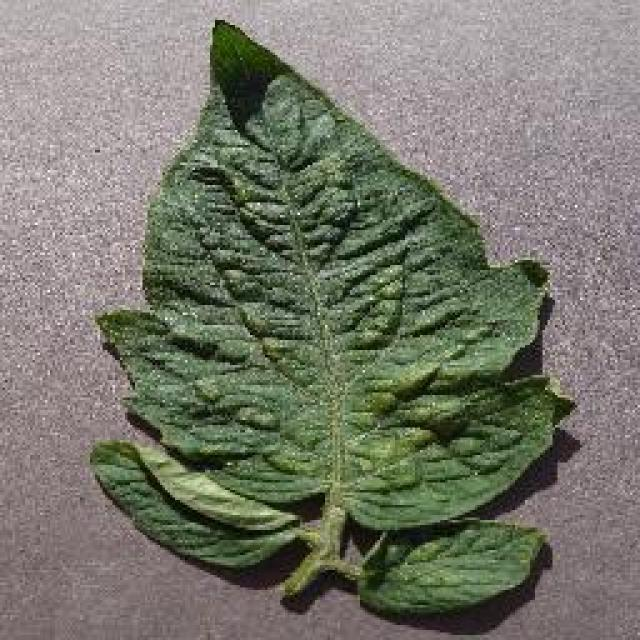Tomato___Spider_mites Two-spotted_spider_mite: (90, 20, 568, 610)
